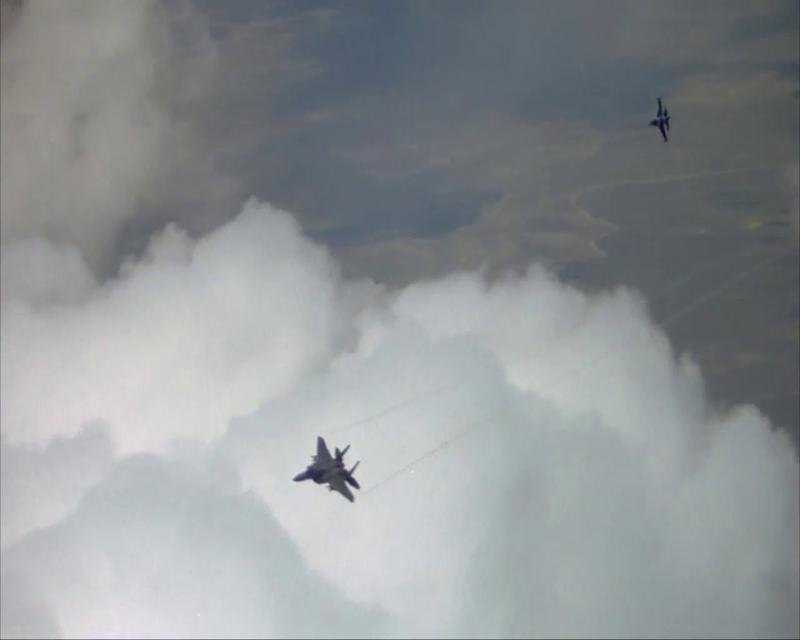UAV: (291, 434, 361, 502), (649, 97, 672, 142)
